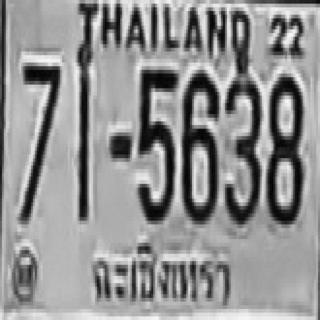N01: (75, 62, 90, 217), (76, 55, 89, 217)
N03: (223, 72, 260, 219)
N05: (137, 66, 175, 221)
N06: (180, 66, 217, 221)
N07: (20, 59, 59, 221)
N08: (266, 70, 301, 221)
P07: (89, 238, 237, 313)
